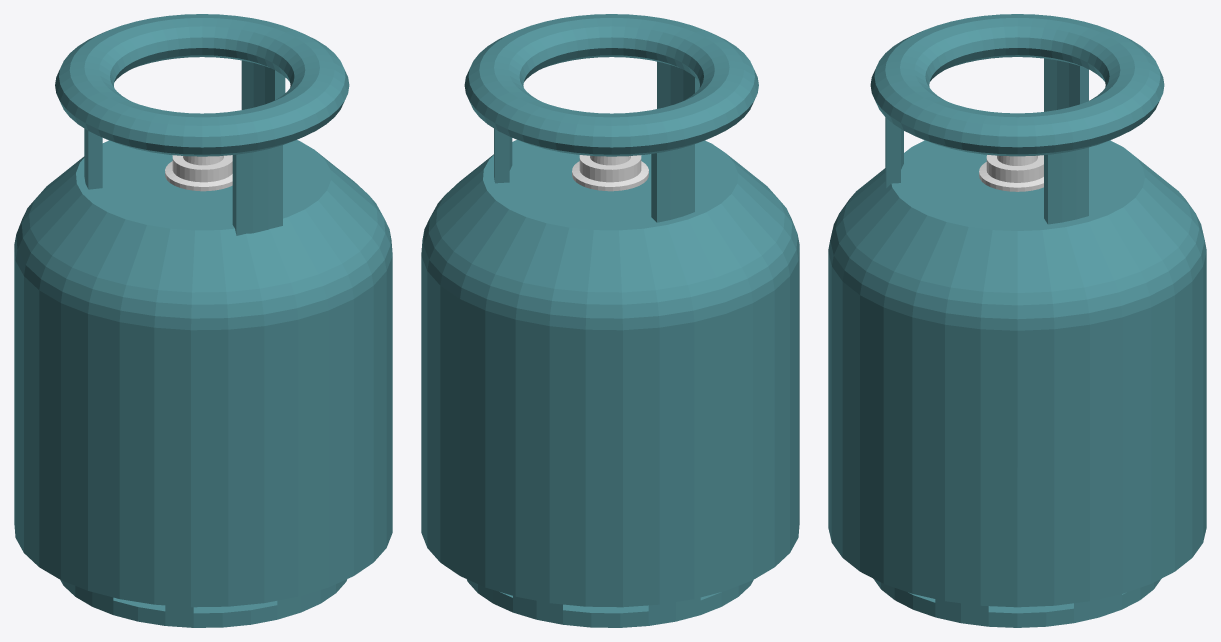
3 renders of one model, left to right at view 1: azimuth 30°, elevation 25°; view 2: azimuth 150°, elevation 25°; view 3: azimuth 270°, elevation 25°, orthographic.
Visible parts, largest first — view 1: Tup; view 2: Tup; view 3: Tup.
Part boxes in pixels (bbox=[...]): Tup: bbox=[14, 14, 392, 627]; Tup: bbox=[421, 14, 799, 627]; Tup: bbox=[828, 14, 1206, 627].
Size of the model in its own units: 200 by 290 by 200.
